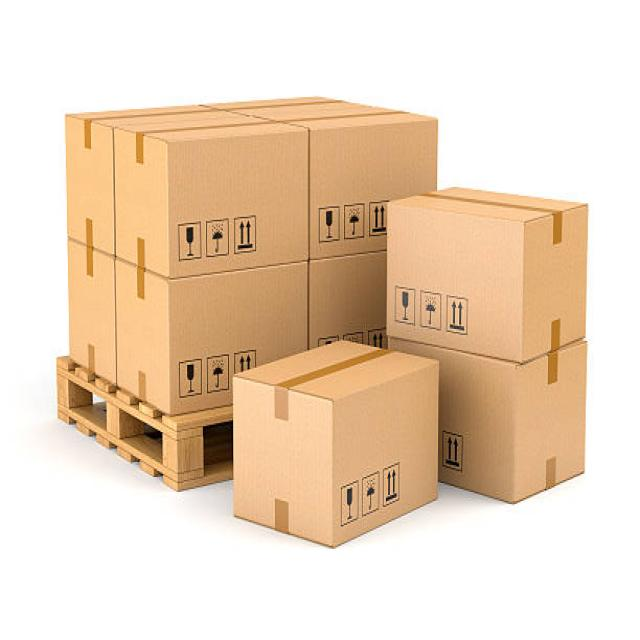Wooden-Pallets: (54, 347, 231, 492)
